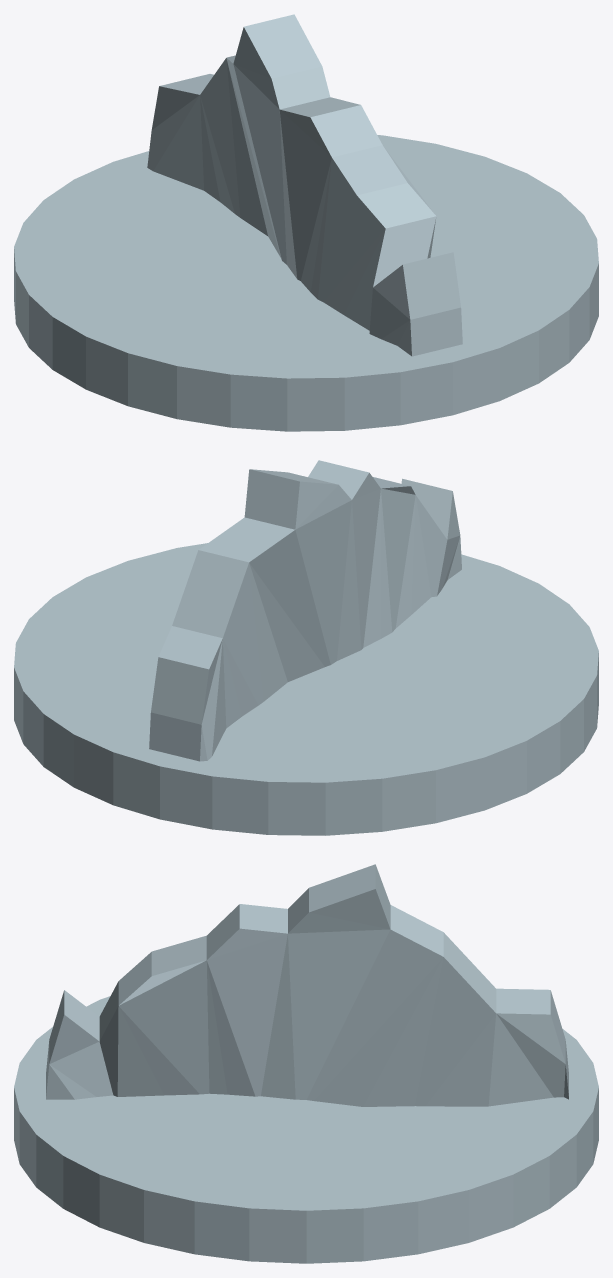
File: hummock.dae
3 views of the same model, one above another, from view 1: azimuth 30°, elevation 25°; view 2: azimuth 150°, elevation 25°; view 3: azimuth 270°, elevation 25° (orthographic).
Visible parts, largest first — view 1: Cylinder_001; view 2: Cylinder_001; view 3: Cylinder_001.
Part boxes in pixels (left/top/right/bottom): Cylinder_001: left=14, top=14, right=598, bottom=431; Cylinder_001: left=14, top=460, right=598, bottom=835; Cylinder_001: left=14, top=864, right=598, bottom=1263.
Size of the model in its own units: 1000 by 1000 by 495.
